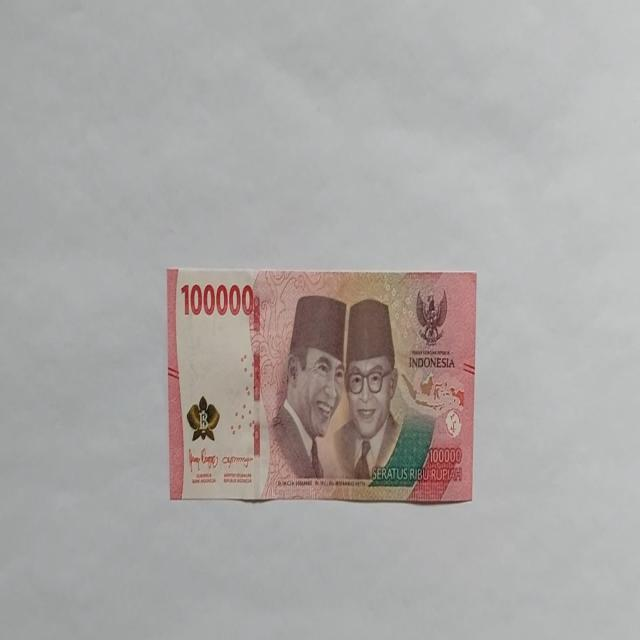seratus ribu rupiah: (167, 266, 477, 504), (263, 292, 347, 496)
